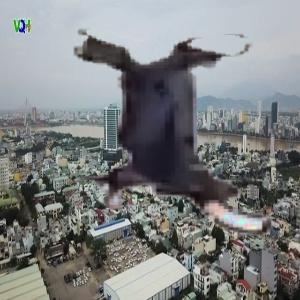drone: (42, 2, 300, 260)
